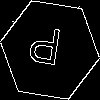P: (25, 25, 64, 75)
